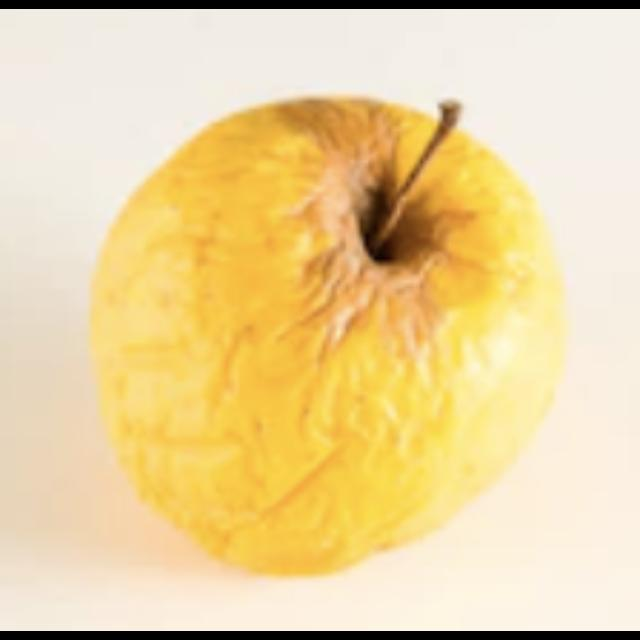Apel Tidak Segar: (83, 86, 574, 584)
